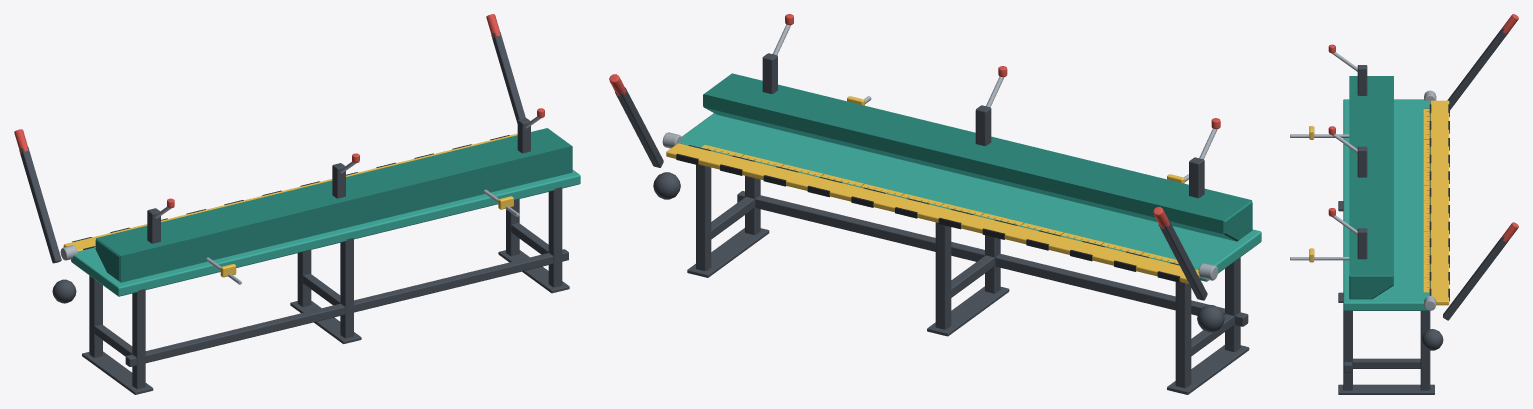
File: dobradeira.glb
3 views of the same model, side by side, from view 1: azimuth 30°, elevation 25°; view 2: azimuth 150°, elevation 25°; view 3: azimuth 270°, elevation 25° (orthographic). The views are drawn at different scales.
Visible parts, largest first — view 1: perfil_viga, bancada, perna (×6), longarina, sapata (×3), braco_alavanca (×2), travessa (×3), chapa_avental; view 2: perfil_viga, bancada, perna (×6), chapa_avental, longarina, sapata (×3), travessa (×3), regua, braco_alavanca (×2), braco (×3), contrapeso (×2); view 3: perfil_viga, bancada, chapa_avental, braco_alavanca (×2), perna (×2), regua, braco (×3), sapata, travessa, contrapeso, guia_batente.
Part boxes in pixels (x1,y1,x2,y2): perfil_viga: (95, 128, 572, 282); bancada: (71, 170, 580, 296); perna (×6): (89, 187, 562, 388); longarina: (125, 249, 568, 366); sapata (×3): (82, 250, 569, 394); braco_alavanca (×2): (19, 31, 525, 263); travessa (×3): (94, 223, 548, 356); chapa_avental: (63, 133, 517, 251); perfil_viga: (703, 73, 1252, 241); bancada: (679, 113, 1261, 281); perna (×6): (696, 164, 1240, 388); chapa_avental: (666, 143, 1200, 283); longarina: (737, 191, 1248, 326); sapata (×3): (687, 228, 1249, 394); travessa (×3): (711, 197, 1234, 356); regua: (701, 145, 1178, 263); braco_alavanca (×2): (615, 87, 1207, 300); braco (×3): (762, 53, 1204, 198); contrapeso (×2): (653, 172, 1224, 332); perfil_viga: (1349, 76, 1393, 299); bancada: (1343, 99, 1430, 310); chapa_avental: (1430, 100, 1449, 305); braco_alavanca (×2): (1443, 28, 1508, 320); perna (×2): (1343, 310, 1430, 390); regua: (1423, 108, 1429, 292); braco (×3): (1357, 65, 1367, 259); sapata: (1338, 384, 1434, 394); travessa: (1352, 358, 1420, 368); contrapeso: (1421, 329, 1443, 350); guia_batente: (1290, 257, 1349, 260).
Size of the model in its own units: 4.26 by 1.65 by 1.89.
8 materials, 1 textured.
